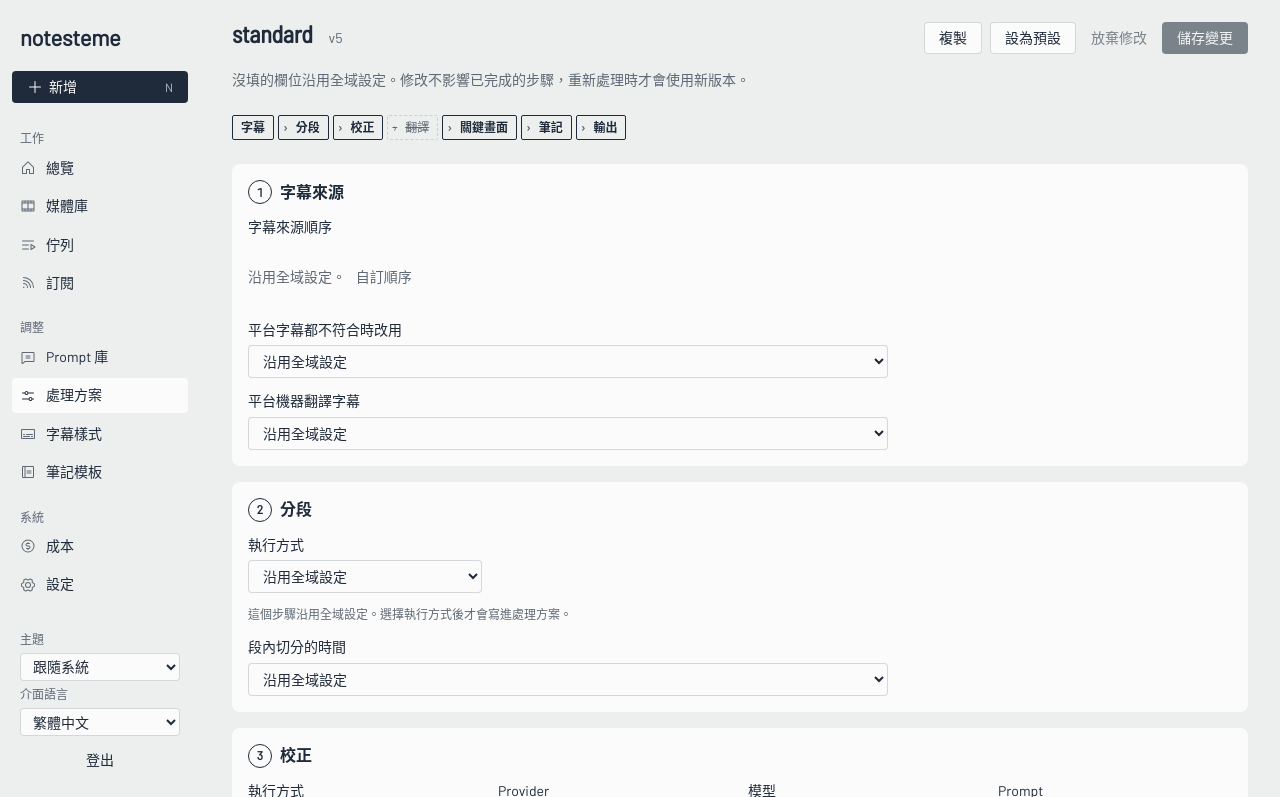
Test: 處理方案：編輯 › 字幕來源的後備：沿用、不用後備（空陣列）、自訂順序
expect the heading "standard" is shown: met, box [232,20,313,49]
expect the list named "處理流程" is shown: met, box [232,115,626,140]
Select "不改用其他來源（只用平台字幕）" in the dropdown labelled "平台字幕都不符合時改用" at (568, 362), box [248,345,888,378]
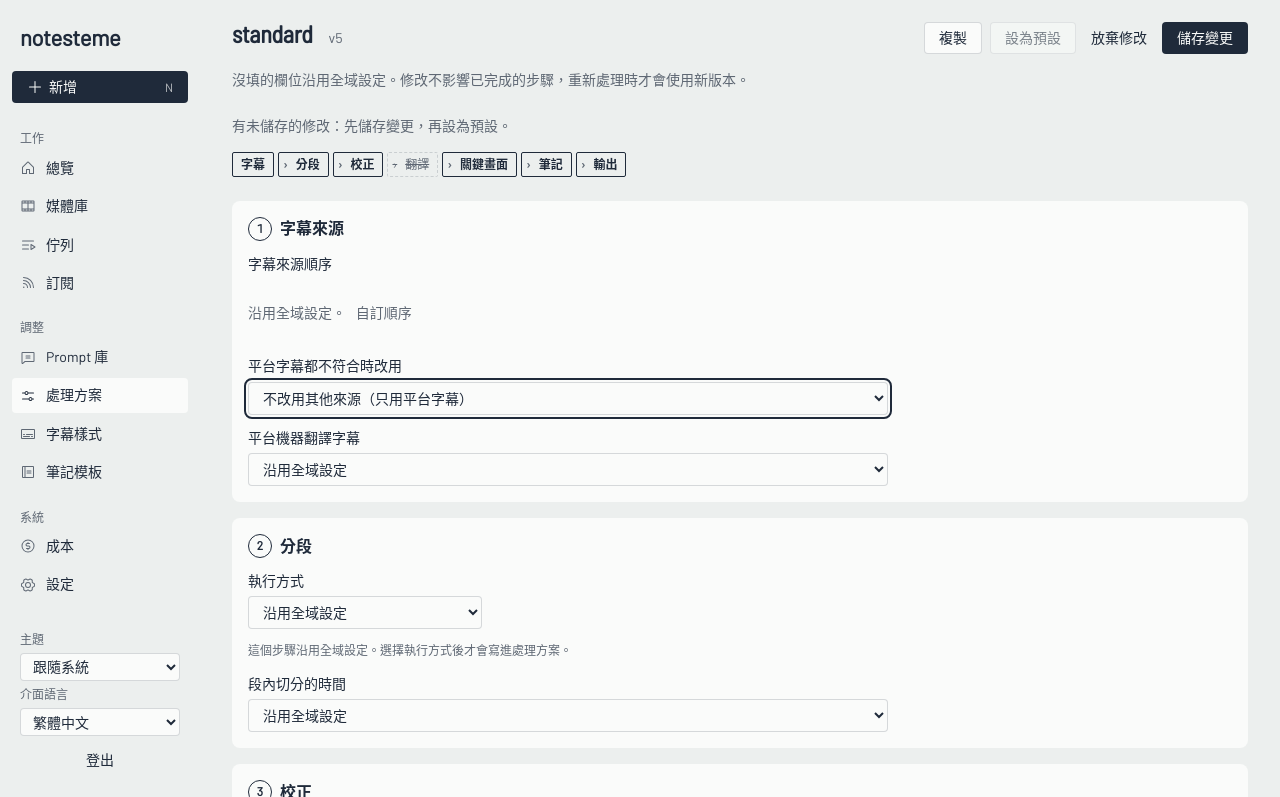
expect the field labelled "依序改用的來源" is not shown: met
Select "自訂順序" in the dropdown labelled "平台字幕都不符合時改用" at (568, 398), box [248,382,888,414]
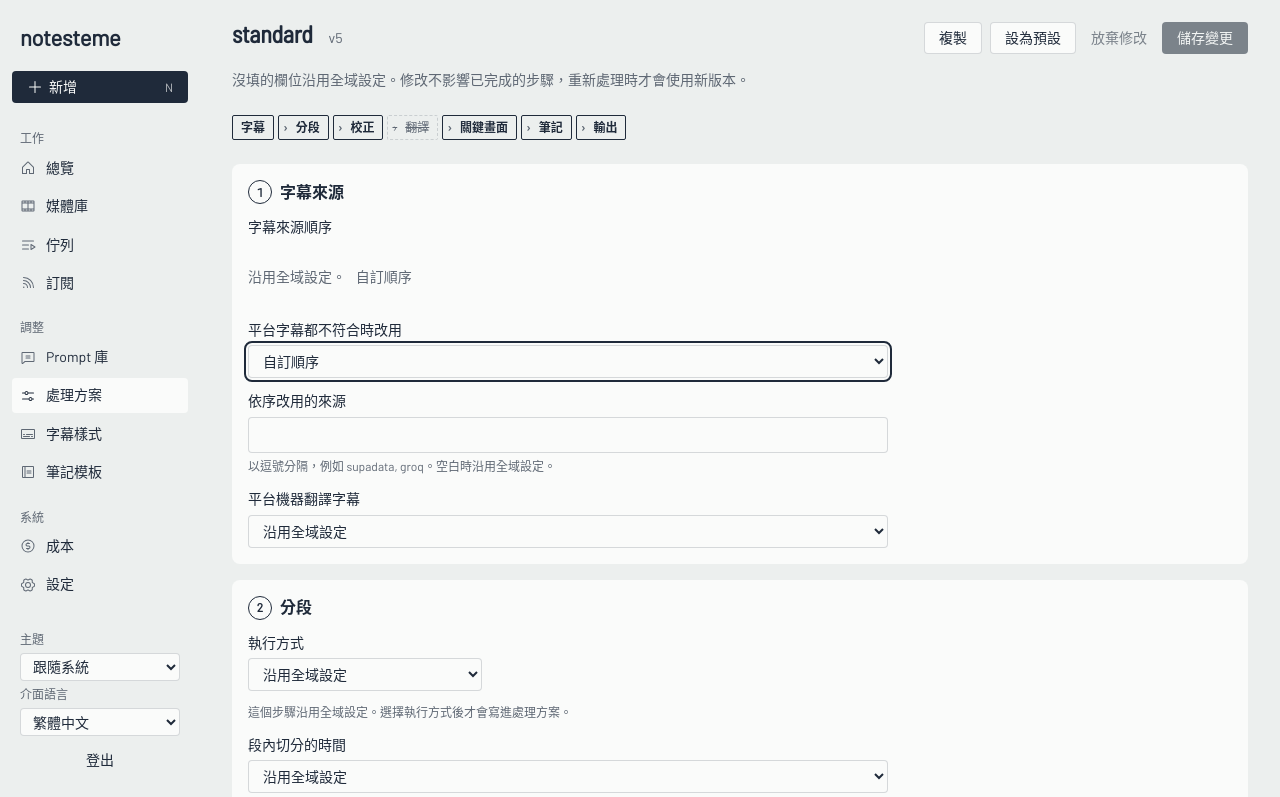
Type "groq, supadata" into the field labelled "依序改用的來源" at (568, 435), box [248,416,888,453]
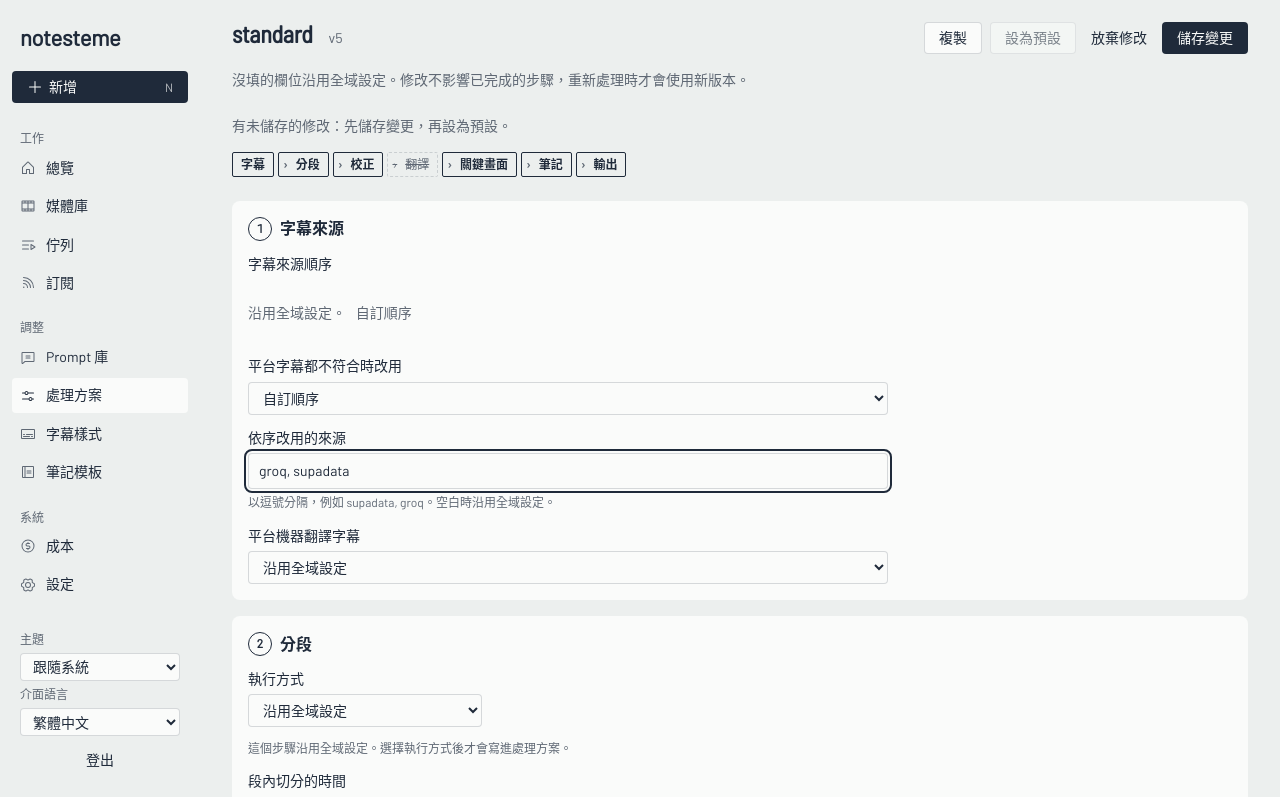
Click the button "儲存變更" at (1205, 38), box [1162,22,1248,54]
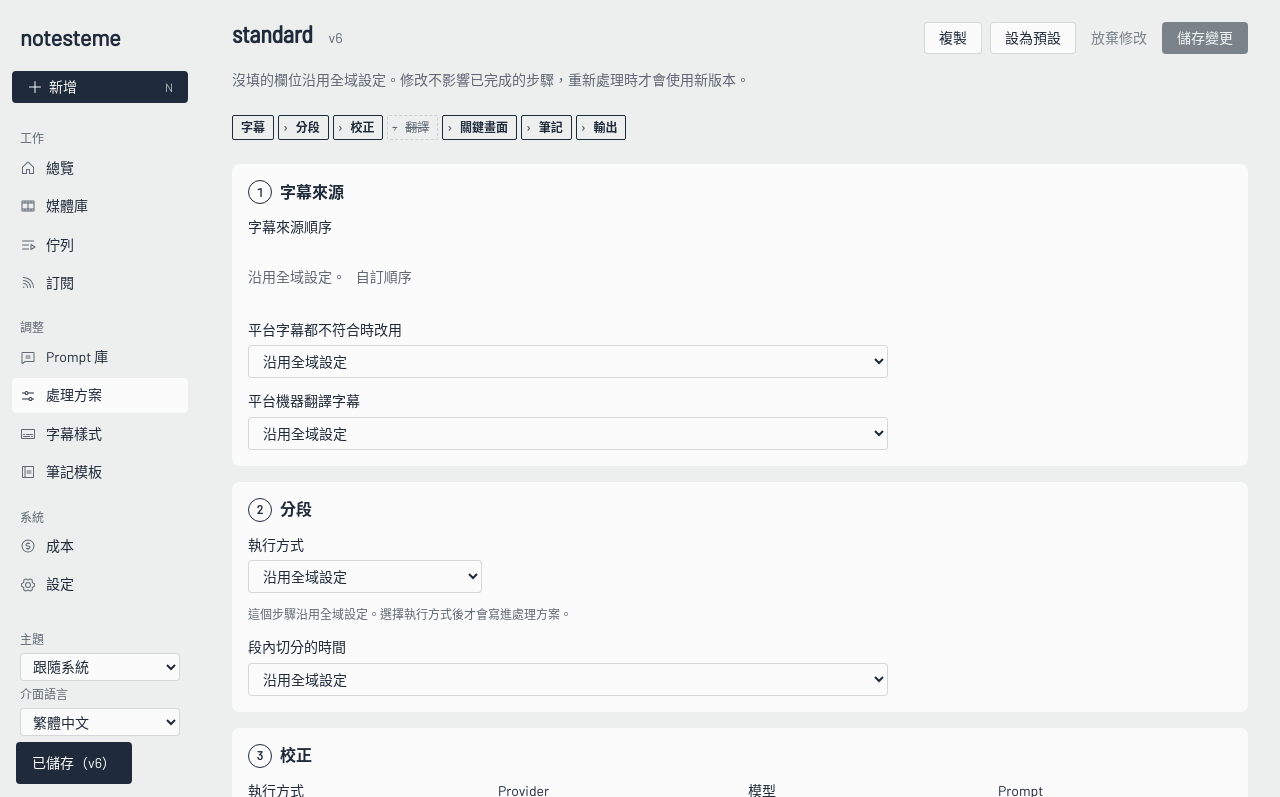
expect the text "已儲存（v6）" is shown: met, box [32,752,116,774]
